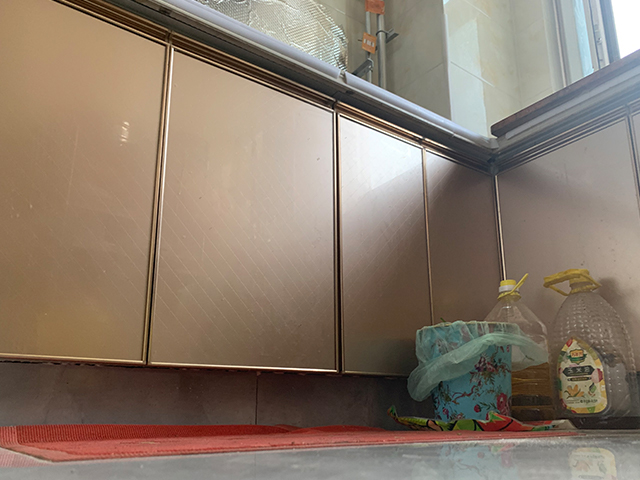cabinet: (1, 1, 491, 431)
carpet: (1, 423, 590, 464)
trashcan: (413, 318, 512, 433)
